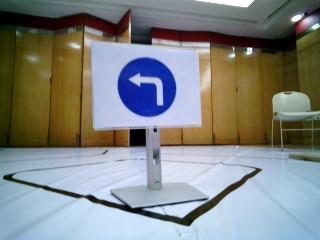left: (93, 44, 196, 121)
